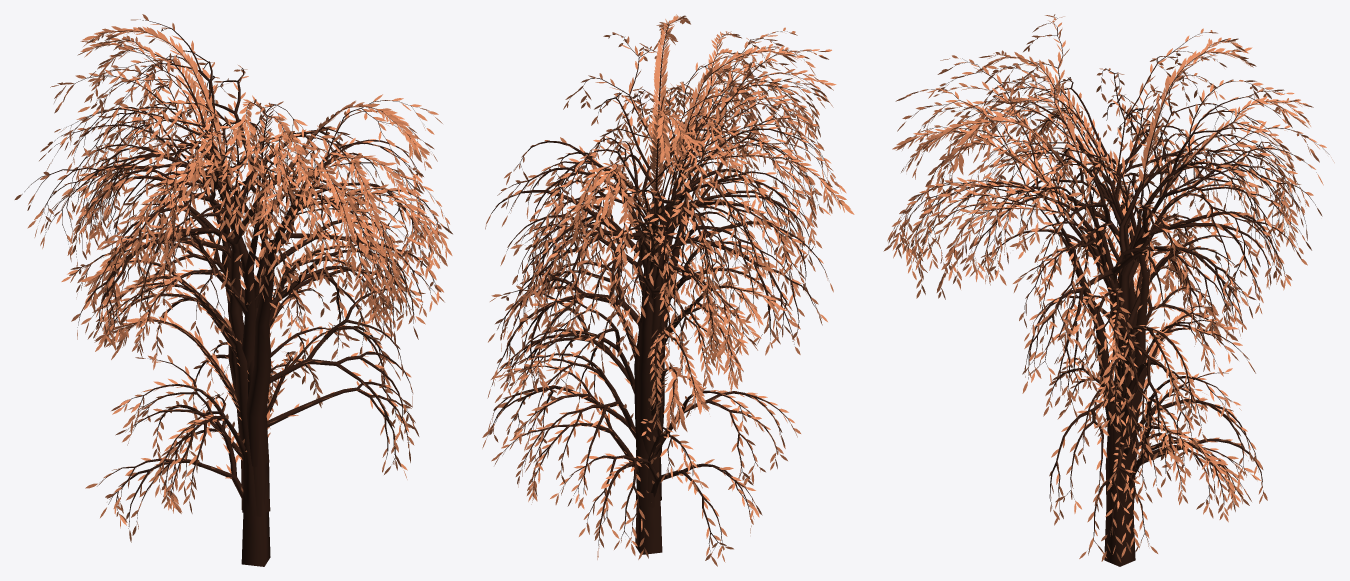
Rendered from Tree5.fbx.
3 views of the same model, side by side, from view 1: azimuth 30°, elevation 25°; view 2: azimuth 150°, elevation 25°; view 3: azimuth 270°, elevation 25° (orthographic). The views are drawn at different scales.
Visible parts, largest first — view 1: leaves.001, tree.001; view 2: leaves.001, tree.001; view 3: leaves.001, tree.001.
Boxes of the visible parts, bbox=[...] form: leaves.001: bbox=[14, 14, 452, 542]; tree.001: bbox=[22, 19, 442, 566]; leaves.001: bbox=[482, 14, 854, 566]; tree.001: bbox=[487, 19, 840, 554]; leaves.001: bbox=[883, 14, 1334, 562]; tree.001: bbox=[893, 17, 1329, 566].
Size of the model in its own units: 1366 by 1891 by 1600.
